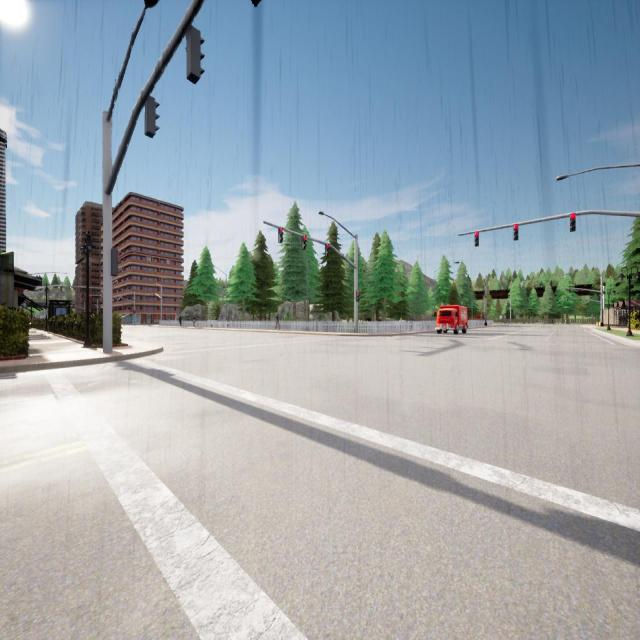Pedestrian: (275, 312, 280, 330), (178, 315, 182, 326), (192, 314, 195, 327)
Traffic_Signs: (500, 316, 502, 319)
Vehicle: (437, 306, 467, 334)
traffic_light: (186, 27, 205, 84), (146, 97, 160, 139), (111, 249, 118, 275), (570, 214, 576, 231), (278, 228, 283, 242), (474, 232, 479, 246), (514, 225, 518, 240), (302, 236, 306, 250), (325, 243, 329, 256), (356, 291, 359, 301), (90, 294, 92, 298), (134, 310, 135, 314), (557, 300, 558, 304), (101, 296, 102, 299), (115, 298, 116, 301), (567, 300, 568, 303), (580, 299, 581, 302), (570, 288, 570, 292)
